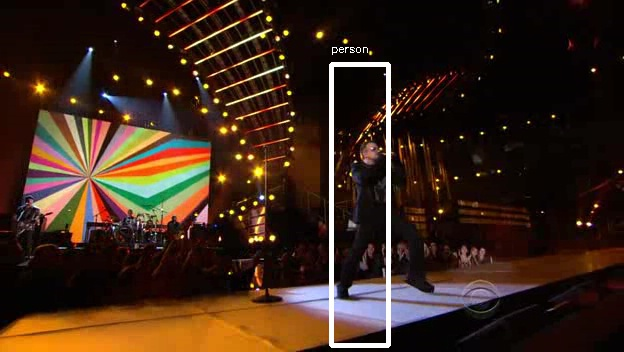person: (346, 137, 409, 250), (343, 137, 406, 250), (349, 137, 412, 250), (346, 134, 409, 247), (346, 140, 409, 253)
target_negative: (148, 41, 263, 128), (320, 259, 563, 291), (498, 51, 536, 167), (98, 342, 527, 347), (92, 277, 553, 279), (82, 342, 404, 343)
